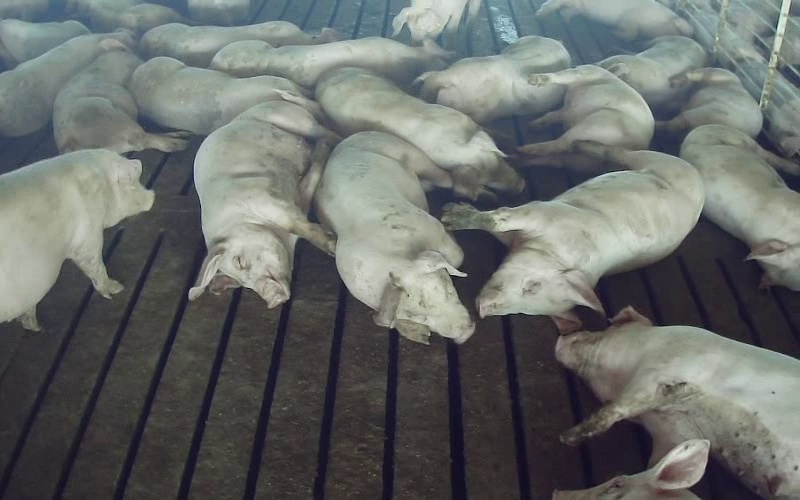pig: (442, 141, 703, 333), (556, 307, 799, 499), (314, 132, 474, 343), (189, 101, 338, 307), (0, 149, 154, 329), (316, 67, 523, 198), (680, 124, 799, 290), (53, 39, 187, 153), (129, 57, 320, 134), (519, 63, 653, 171), (0, 31, 133, 136), (417, 36, 570, 122), (210, 37, 451, 88), (140, 21, 337, 67), (599, 36, 706, 105), (658, 67, 762, 136)
